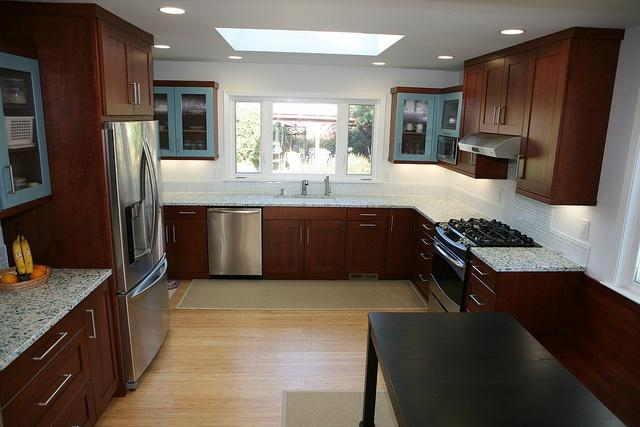Lemari: (512, 33, 572, 204), (94, 16, 155, 117), (477, 46, 530, 135)
Meja: (359, 311, 628, 426)
